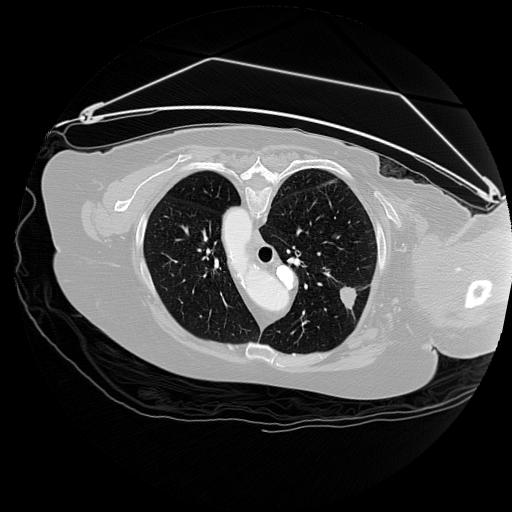nodule: (336, 285, 364, 313)
